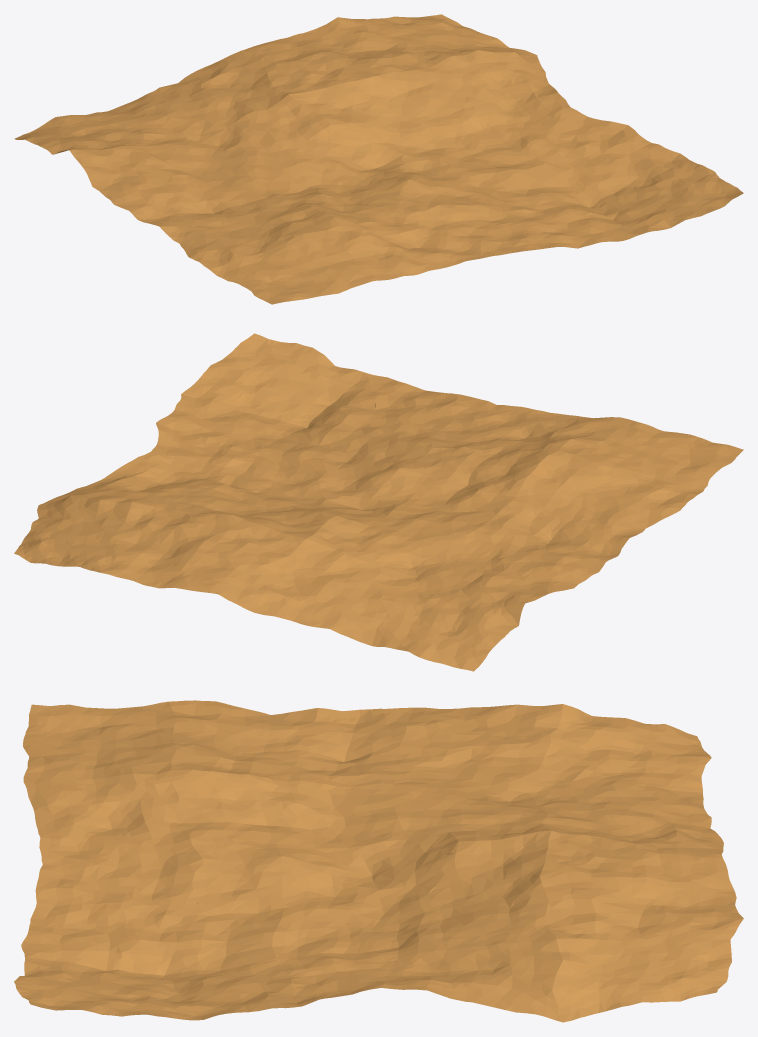
The model's file is Environment_1.fbx.
3 views of the same model, one above another, from view 1: azimuth 30°, elevation 25°; view 2: azimuth 150°, elevation 25°; view 3: azimuth 270°, elevation 25° (orthographic). The views are drawn at different scales.
Parts seen in each view (by area): view 1: Environment_1; view 2: Environment_1; view 3: Environment_1.
Boxes of the visible parts, <box> form: Environment_1: <box>14,14,743,304</box>; Environment_1: <box>14,333,743,671</box>; Environment_1: <box>14,700,743,1022</box>.
Bounding box in the file's own units: 2142 × 174 × 2155.
